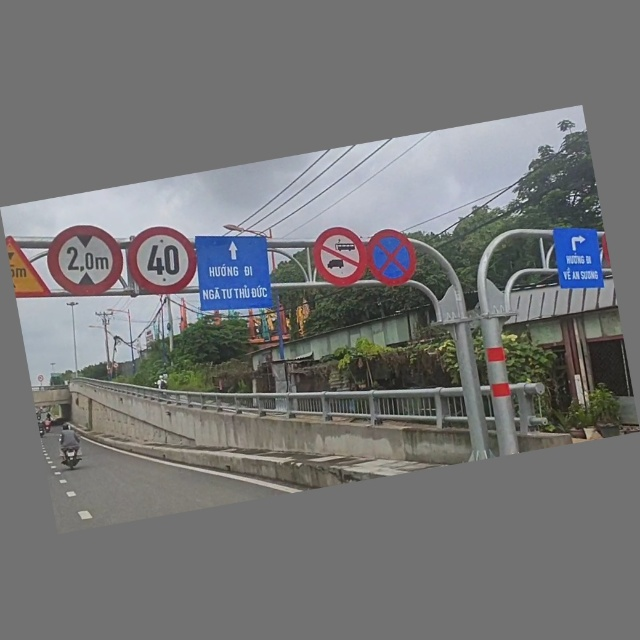P.107: (308, 223, 371, 292)
P.117*: (43, 217, 130, 306)
P.127*40: (124, 222, 201, 302)
P.130: (363, 223, 421, 293)
W.239b*: (6, 232, 52, 304)
